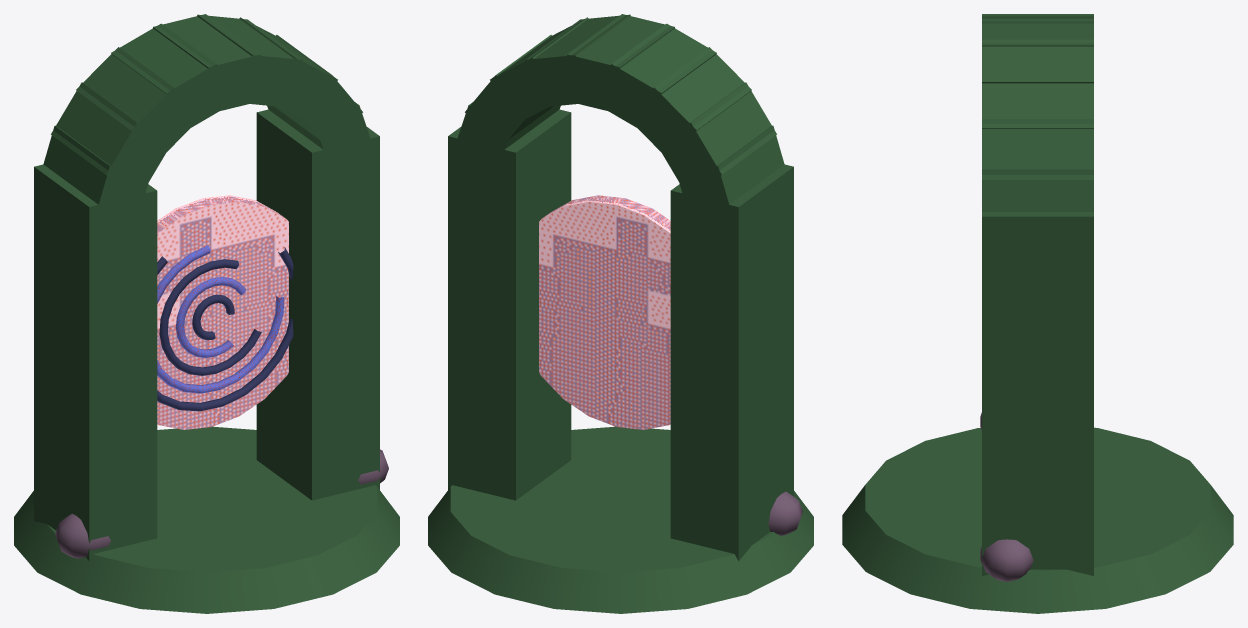
Rendered from batiment-portail.glb.
3 renders of one model, left to right at view 1: azimuth 30°, elevation 25°; view 2: azimuth 150°, elevation 25°; view 3: azimuth 270°, elevation 25°, orthographic.
Visible parts, largest first — view 1: PillarL, Foundation, PillarR, PortalDisc, PortalArch2, PortalArch3, PortalArch4, PortalArch5, PortalArch1, PortalArch6, PortalArch8, PortalArch7 (+7 smaller); view 2: PillarL, Foundation, PillarR, PortalDisc, PortalArch2, PortalArch3, PortalArch4, PortalArch5, PortalArch1, PortalArch6, PortalArch9, PortalArch7 (+4 smaller); view 3: Foundation, PillarR, PortalArch8, PortalArch7, PortalArch6, PortalArch9, PortalArch5, Moss1, PortalArch4.
Part boxes in pixels (x1,y1,x2,y2): PillarL: (34,164,157,561); Foundation: (14,426,399,613); PillarR: (256,109,379,500); PortalDisc: (157,195,288,429); PortalArch2: (51,82,172,192); PortalArch3: (76,47,199,159); PortalArch4: (111,23,229,133); PortalArch5: (153,14,260,113); PortalArch1: (43,125,151,204); PortalArch6: (197,14,302,107); PortalArch8: (274,35,362,145); PortalArch7: (239,17,337,123); PillarL: (670,164,793,561); Foundation: (428,426,813,613); PillarR: (448,109,571,500); PortalDisc: (539,195,670,429); PortalArch2: (655,82,776,193); PortalArch3: (628,47,751,160); PortalArch4: (597,23,716,133); PortalArch5: (567,14,674,113); PortalArch1: (676,125,784,225); PortalArch6: (525,14,630,107); PortalArch9: (452,102,560,177); PortalArch7: (490,17,588,123); Foundation: (842,427,1233,613); PillarR: (982,212,1093,575); PortalArch8: (982,119,1093,179); PortalArch7: (982,74,1093,128); PortalArch6: (982,39,1093,83); PortalArch9: (982,169,1093,211); PortalArch5: (982,19,1093,46); Moss1: (980,539,1033,581); PortalArch4: (982,15,1093,23).
Bounding box in the file's own units: 3.75 × 5.2 × 3.7.
2 materials, 2 textured.
